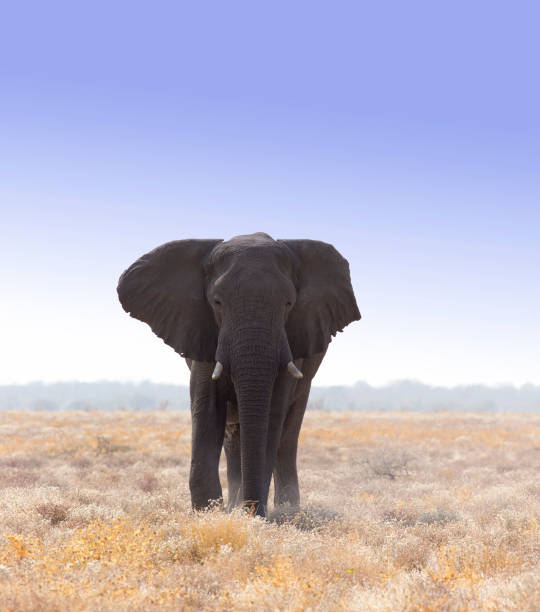africanelephant: (204, 253, 330, 424)
